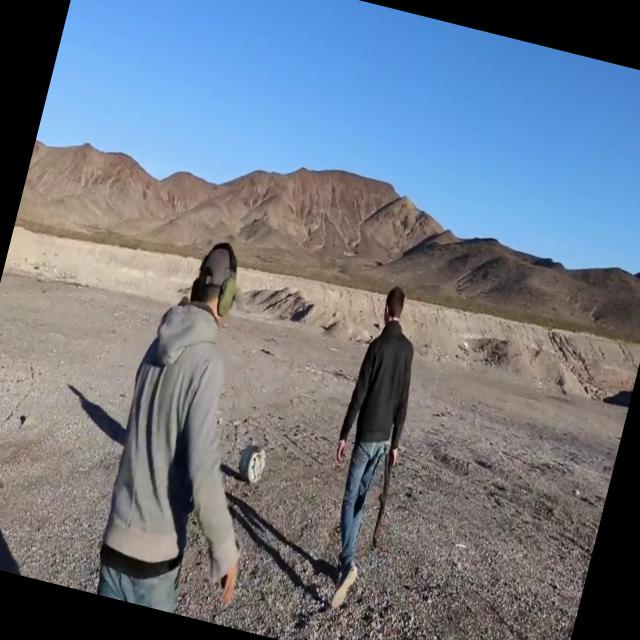long weapon: (360, 424, 412, 554)
